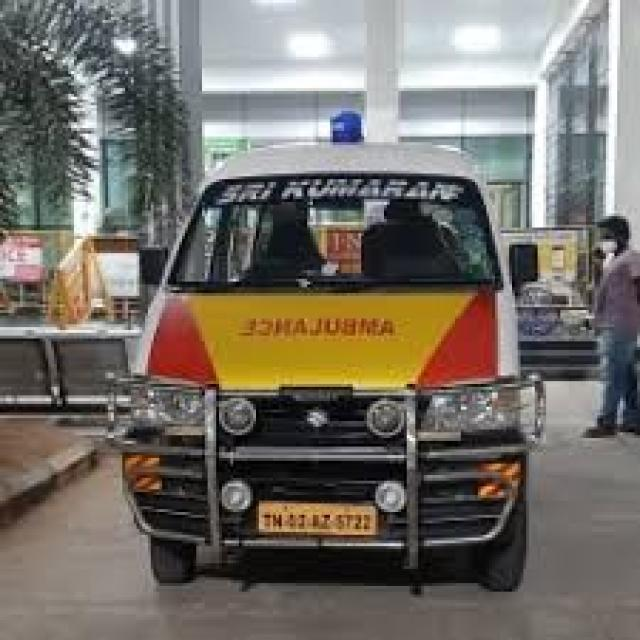ambulance: (119, 103, 547, 599)
